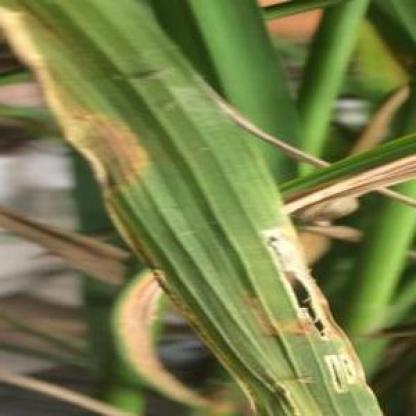Blight: (245, 216, 378, 400)
